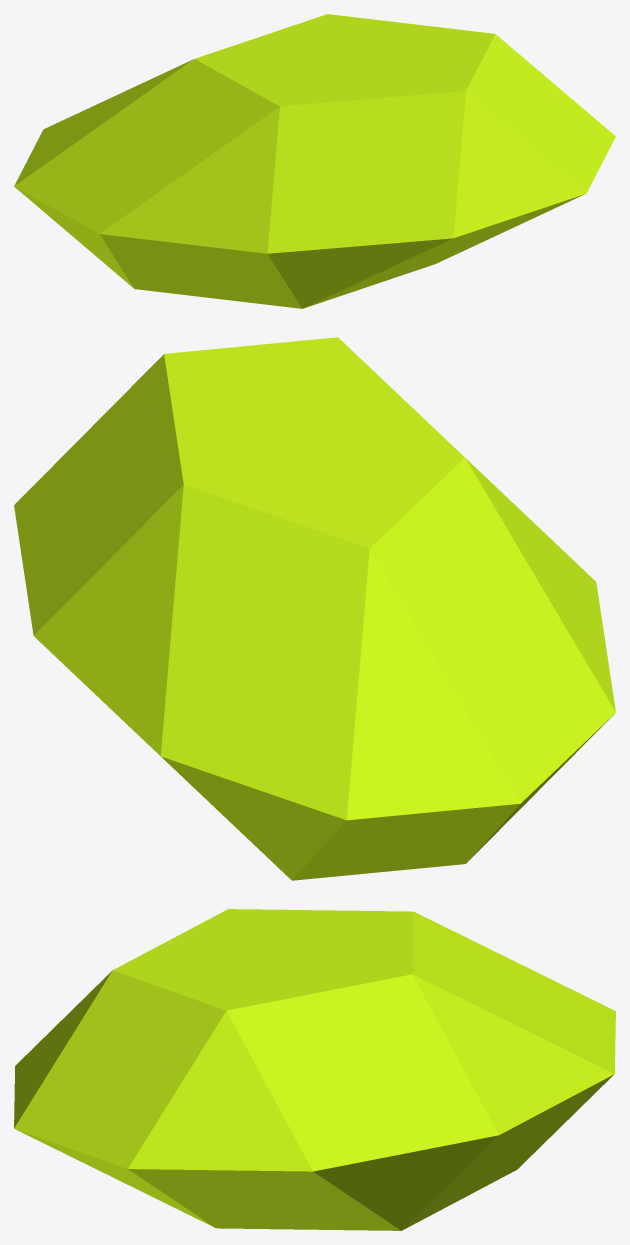
3 views of the same model, one above another, from view 1: azimuth 30°, elevation 25°; view 2: azimuth 150°, elevation 25°; view 3: azimuth 270°, elevation 25° (orthographic). The views are drawn at different scales.
Visible parts, largest first — view 1: body; view 2: body; view 3: body.
Part boxes in pixels (x1,y1,x2,y2): body: [14, 14, 615, 308]; body: [14, 337, 615, 880]; body: [14, 909, 615, 1230].
Size of the model in its own units: 0.9264 by 0.4725 by 0.8937.
